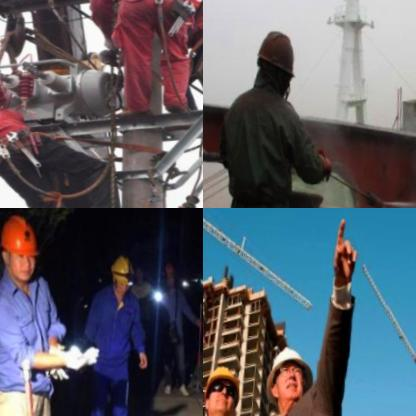helmet: (245, 21, 302, 111), (258, 343, 318, 415), (0, 209, 43, 286), (203, 362, 242, 416), (105, 252, 136, 301)
